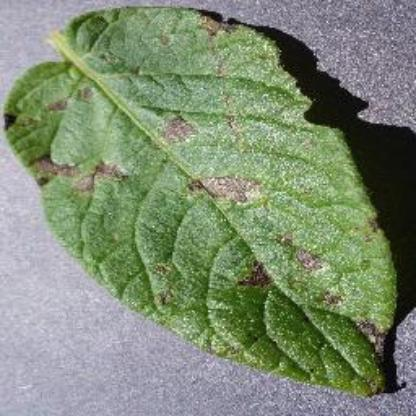Early-Blight: (10, 5, 404, 397)
